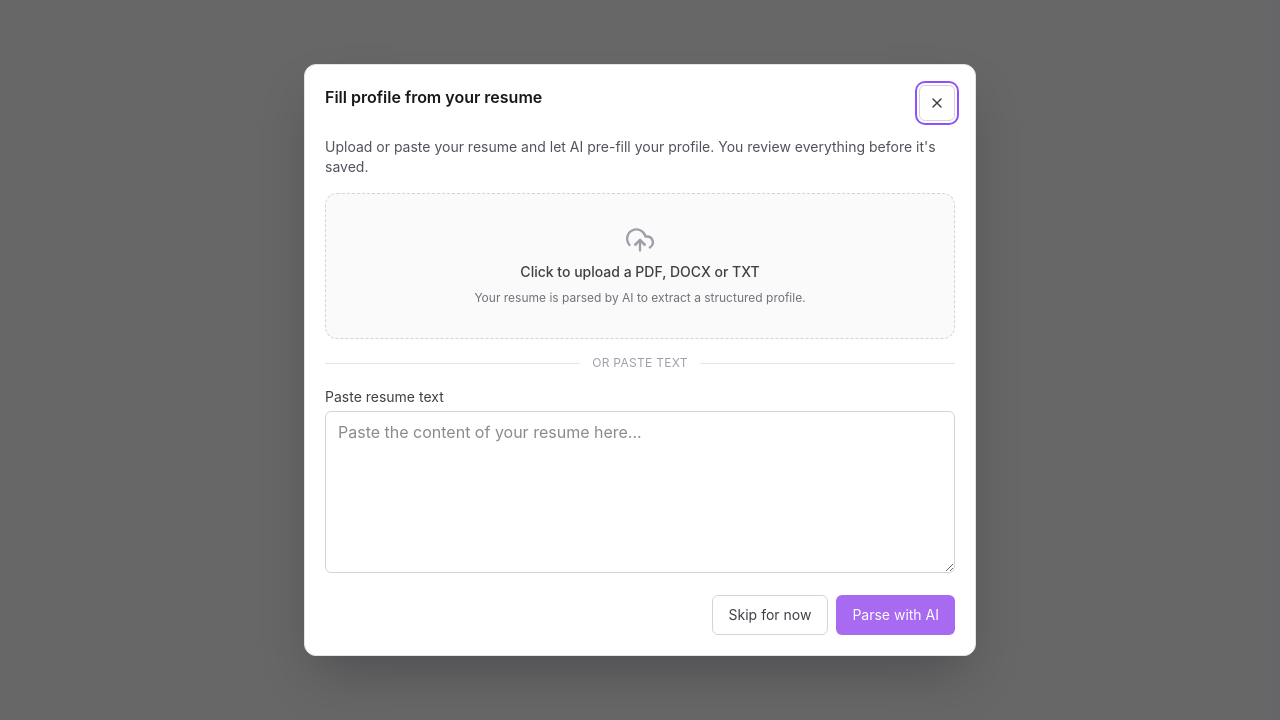
ResumeImportModal parse step › replaces the upload form with a progress + skeleton state while the AI reads the resume
The width and height of the screenshot is (1280, 720).
Type "Staff engineer with ten years of TypeScript experience." into the text box labelled "Paste resume text" at (640, 492), box top-left (325, 411), bottom-right (955, 573)
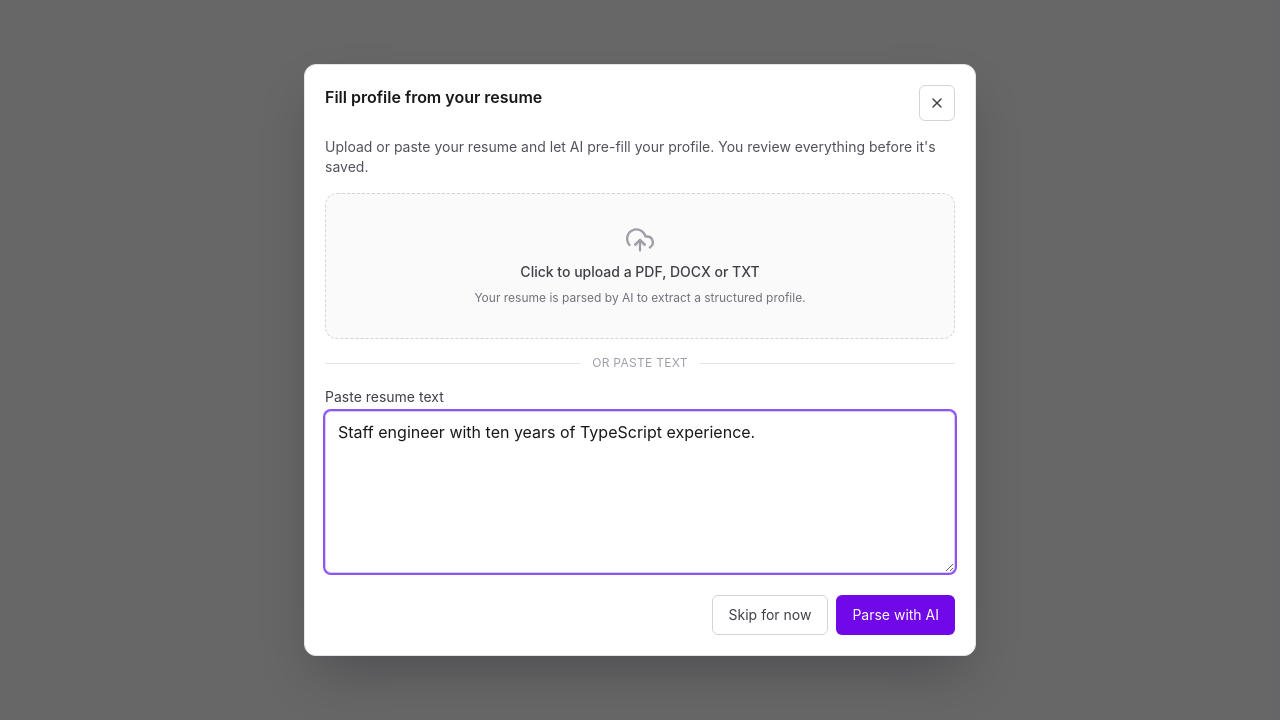
Click the button "Parse with AI" at (896, 615), box top-left (836, 595), bottom-right (955, 635)
(page scrolled)
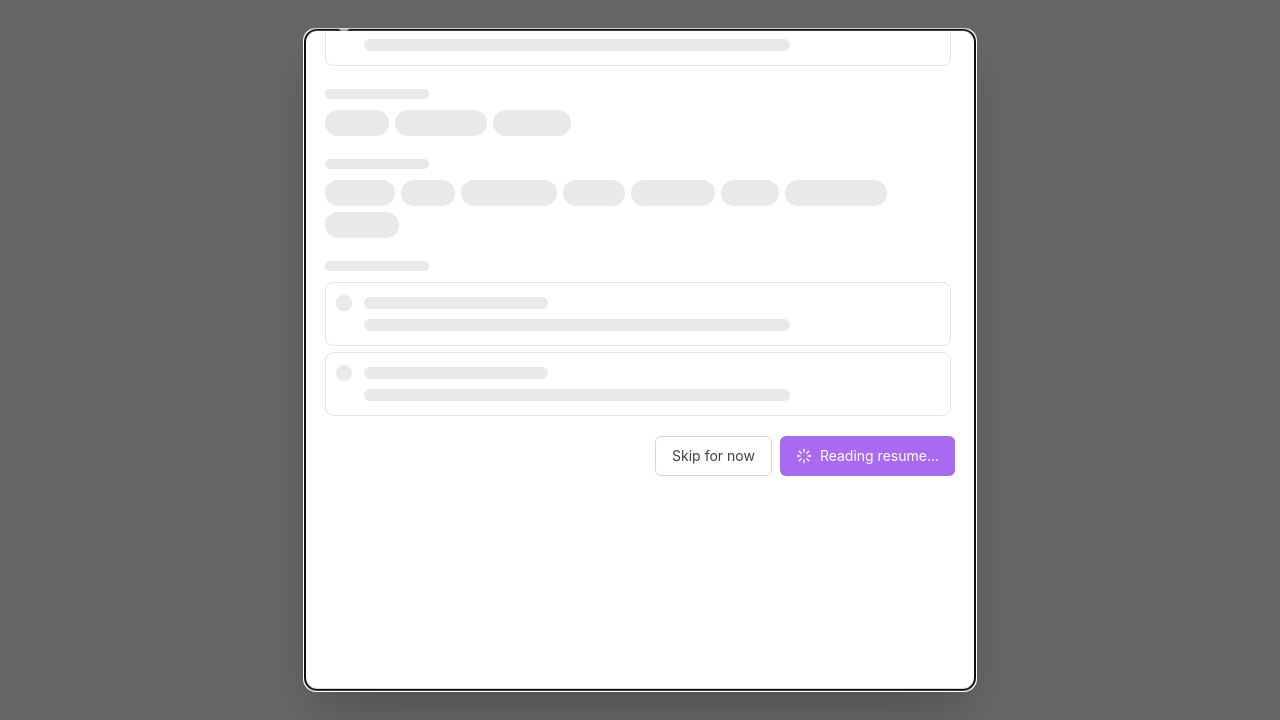
expect the button "Skip for now" is enabled: met, box top-left (655, 436), bottom-right (772, 476)
expect the button "Reading resume..." is disabled: met, box top-left (780, 436), bottom-right (955, 476)
expect the label labelled "Paste resume text" is gone: met
